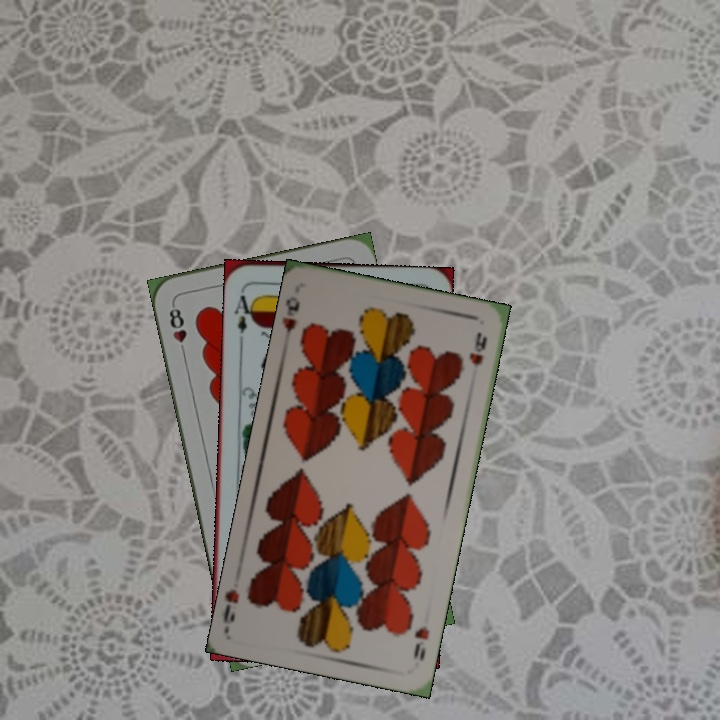EA: (230, 285, 258, 344)
H8: (165, 300, 190, 358)
H9: (280, 295, 302, 345), (409, 621, 432, 663)
